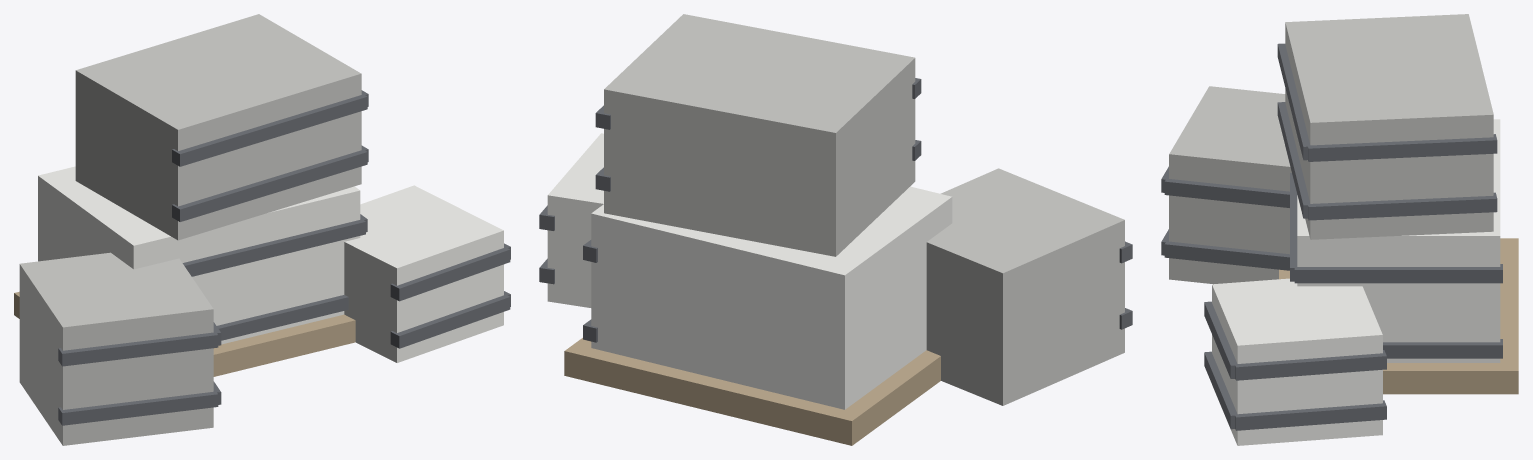
File: radio-telescope-array-and-field-station-supply-crate-s-6a5d3508.glb
3 views of the same model, side by side, from view 1: azimuth 30°, elevation 25°; view 2: azimuth 150°, elevation 25°; view 3: azimuth 270°, elevation 25° (orthographic). The views are drawn at different scales.
Visible parts, largest first — view 1: supply-crate-stack; view 2: supply-crate-stack; view 3: supply-crate-stack.
Boxes of the visible parts, x1,y1,x2,y2 form: supply-crate-stack: [14, 14, 510, 445]; supply-crate-stack: [539, 14, 1132, 445]; supply-crate-stack: [1161, 14, 1518, 445].
Size of the model in its own units: 3.08 by 1.6 by 1.94.
